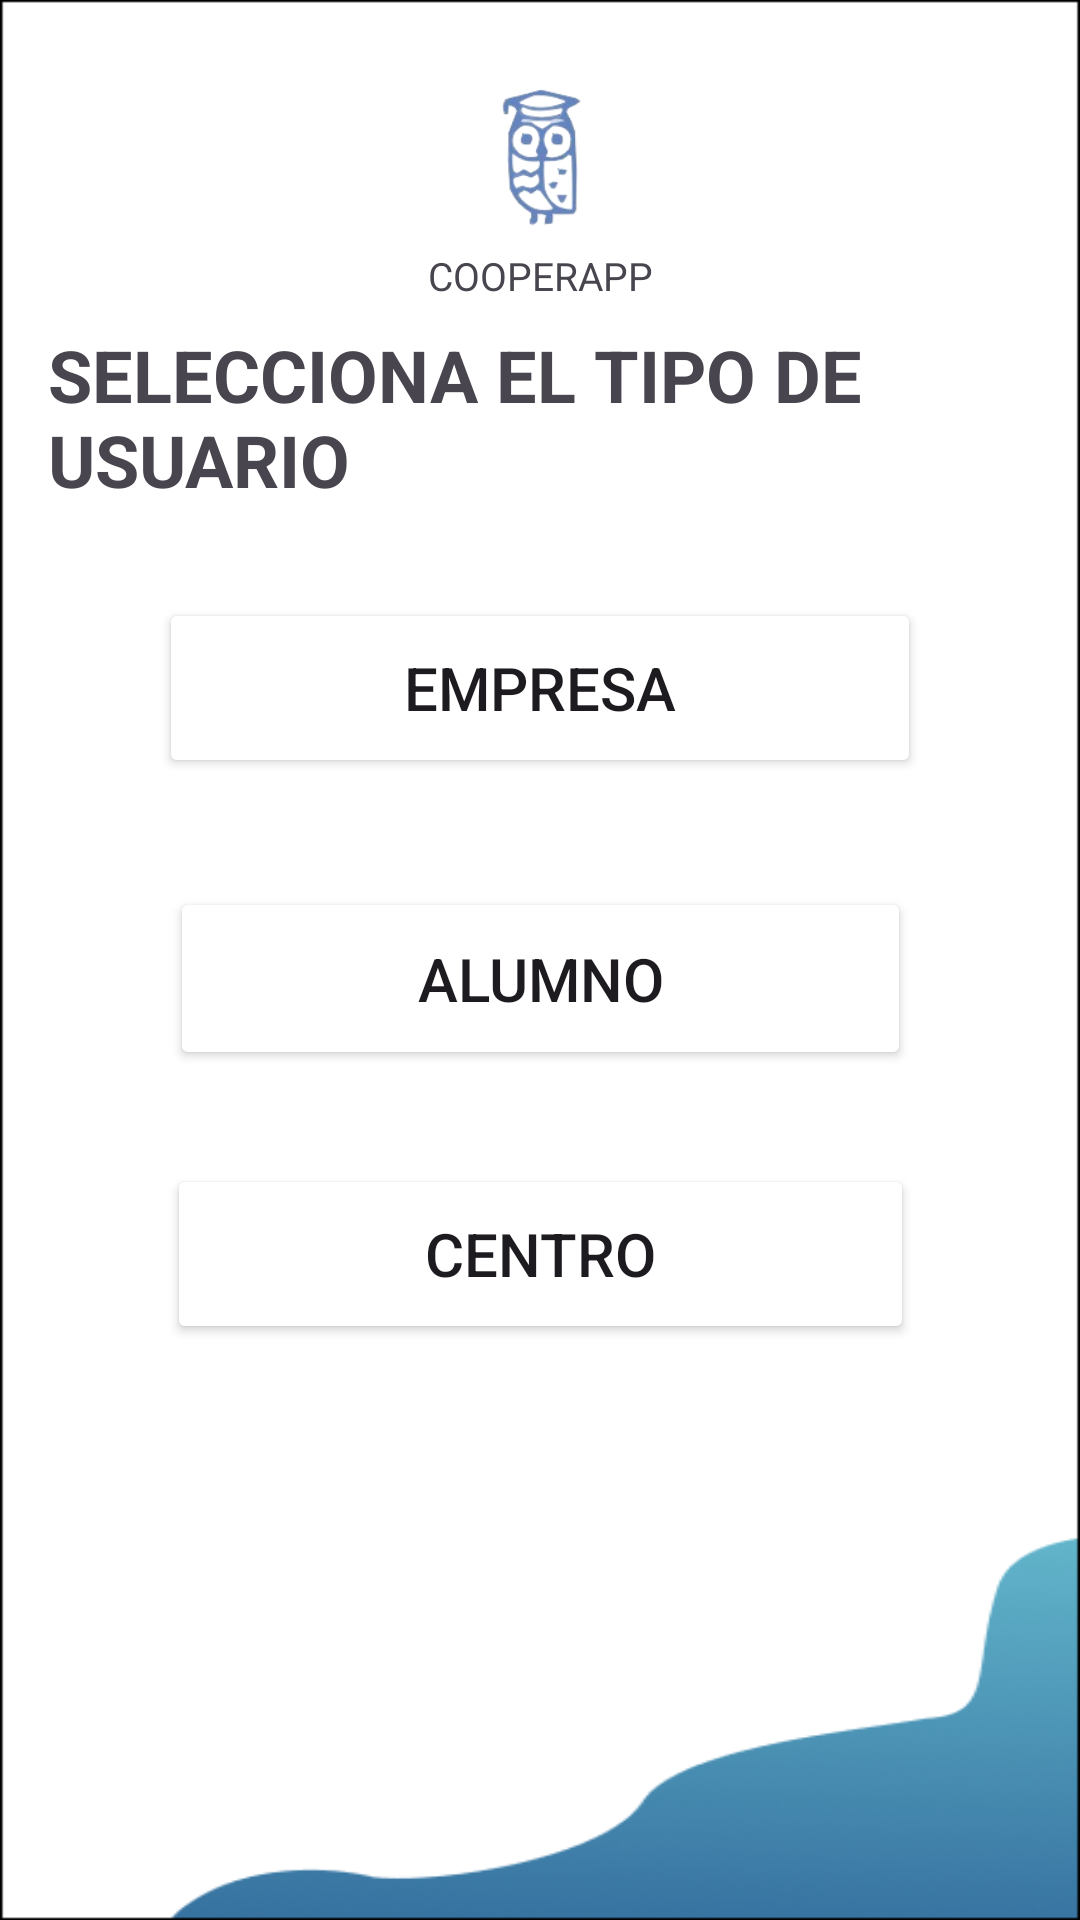

Where to tap for icons on this 1080 x 1920 app screen, as (x,y):
buho: (541,157)
